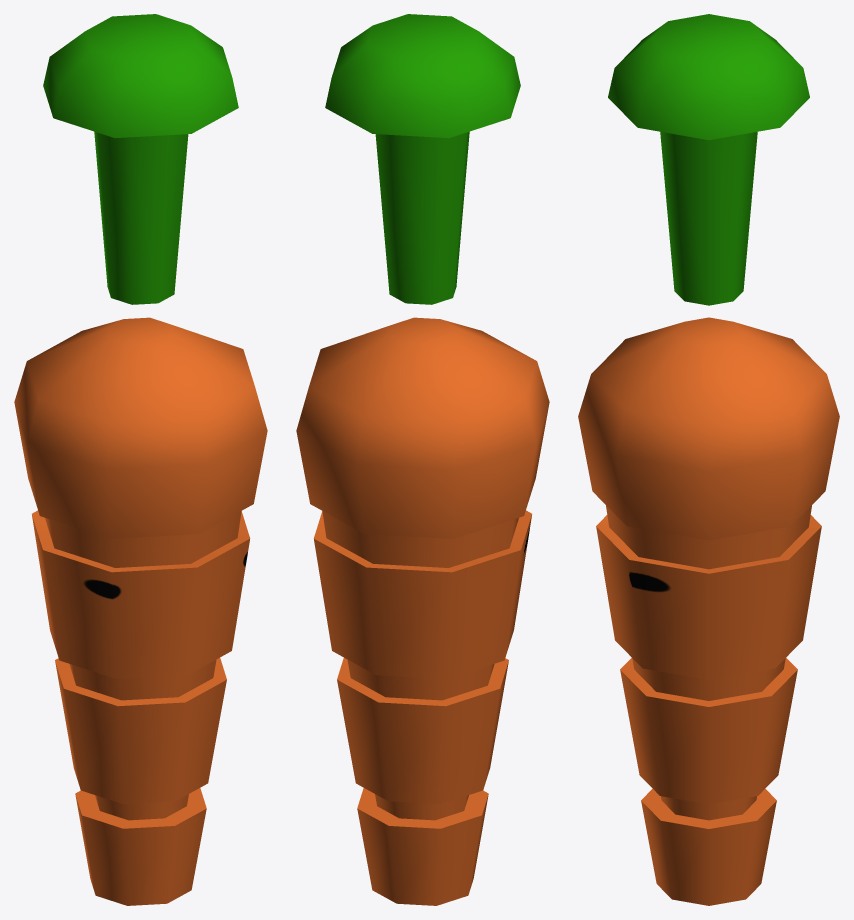
Rendered from carrot.obj.
3 views of the same model, side by side, from view 1: azimuth 30°, elevation 25°; view 2: azimuth 150°, elevation 25°; view 3: azimuth 270°, elevation 25° (orthographic).
Visible parts, largest first — view 1: vegetable; view 2: vegetable; view 3: vegetable.
Boxes of the visible parts, x1,y1,x2,y2 form: vegetable: (14, 14, 267, 905); vegetable: (296, 14, 549, 905); vegetable: (578, 14, 839, 905).
Bounding box in the file's own units: 0.3559 × 1.27 × 0.3559.
1 material, 1 textured.
